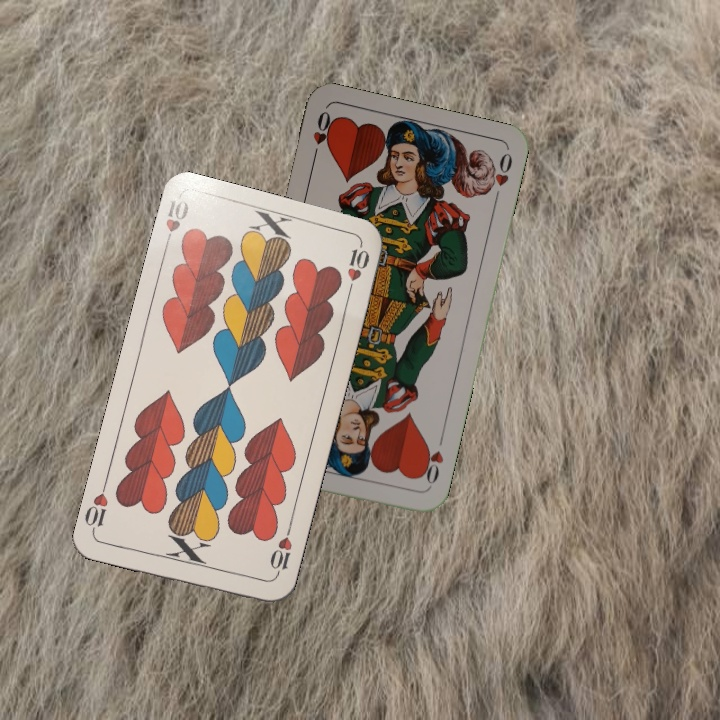H10: (160, 195, 191, 252), (265, 523, 295, 581)
HO: (416, 431, 446, 490), (308, 107, 336, 165)
